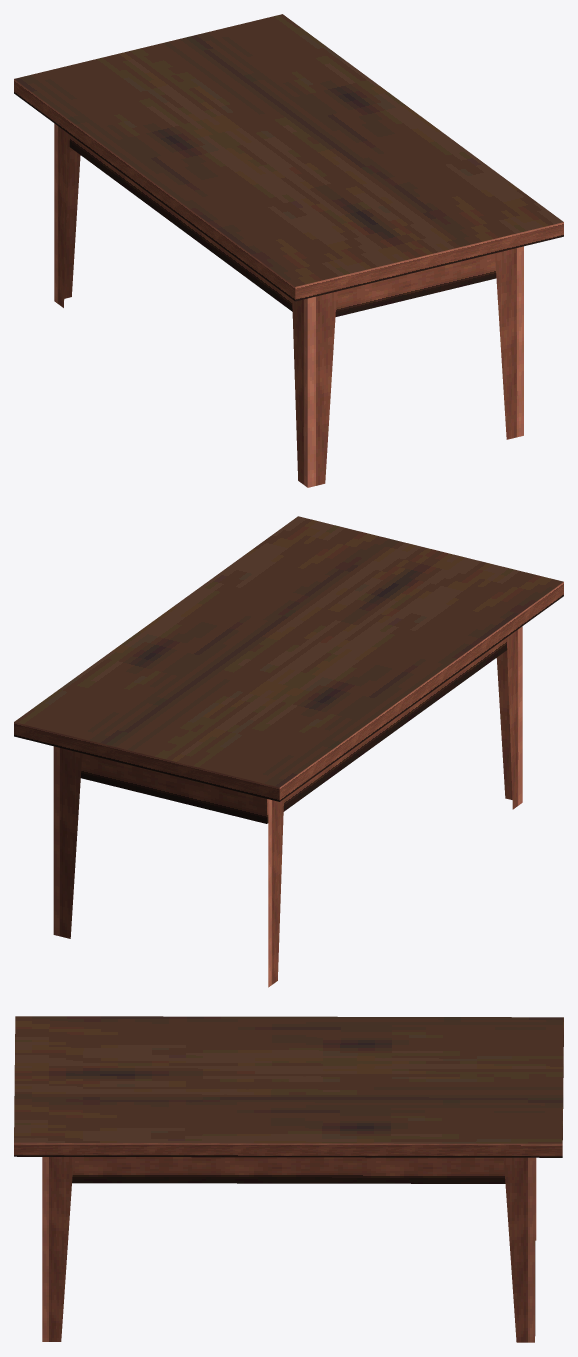
The model's file is primary_131.glb.
3 views of the same model, one above another, from view 1: azimuth 30°, elevation 25°; view 2: azimuth 150°, elevation 25°; view 3: azimuth 270°, elevation 25° (orthographic). The views are drawn at different scales.
Visible parts, largest first — view 1: Object; view 2: Object; view 3: Object.
Part boxes in pixels (bbox=[...]): Object: bbox=[14, 14, 563, 487]; Object: bbox=[14, 516, 563, 987]; Object: bbox=[14, 1016, 563, 1342].
Bounding box in the file's own units: 1.16 × 0.8928 × 2.11.
4 materials, 4 textured.
